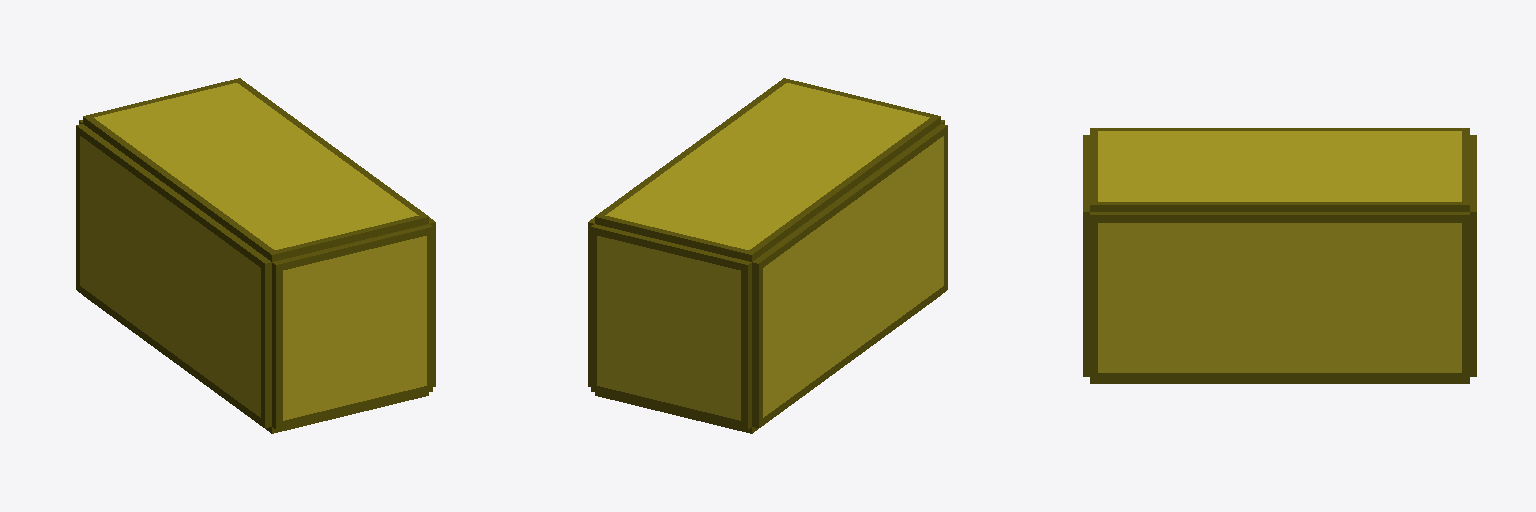
3 renders of one model, left to right at view 1: azimuth 30°, elevation 25°; view 2: azimuth 150°, elevation 25°; view 3: azimuth 270°, elevation 25°, orthographic.
Visible parts, largest first — view 1: Matrix_2; view 2: Matrix_2; view 3: Matrix_2.
Part boxes in pixels (bbox=[...]): Matrix_2: bbox=[76, 78, 435, 433]; Matrix_2: bbox=[588, 78, 947, 433]; Matrix_2: bbox=[1083, 128, 1476, 383].
Size of the model in its own units: 25 by 25 by 50.
1 materials, 1 textured.